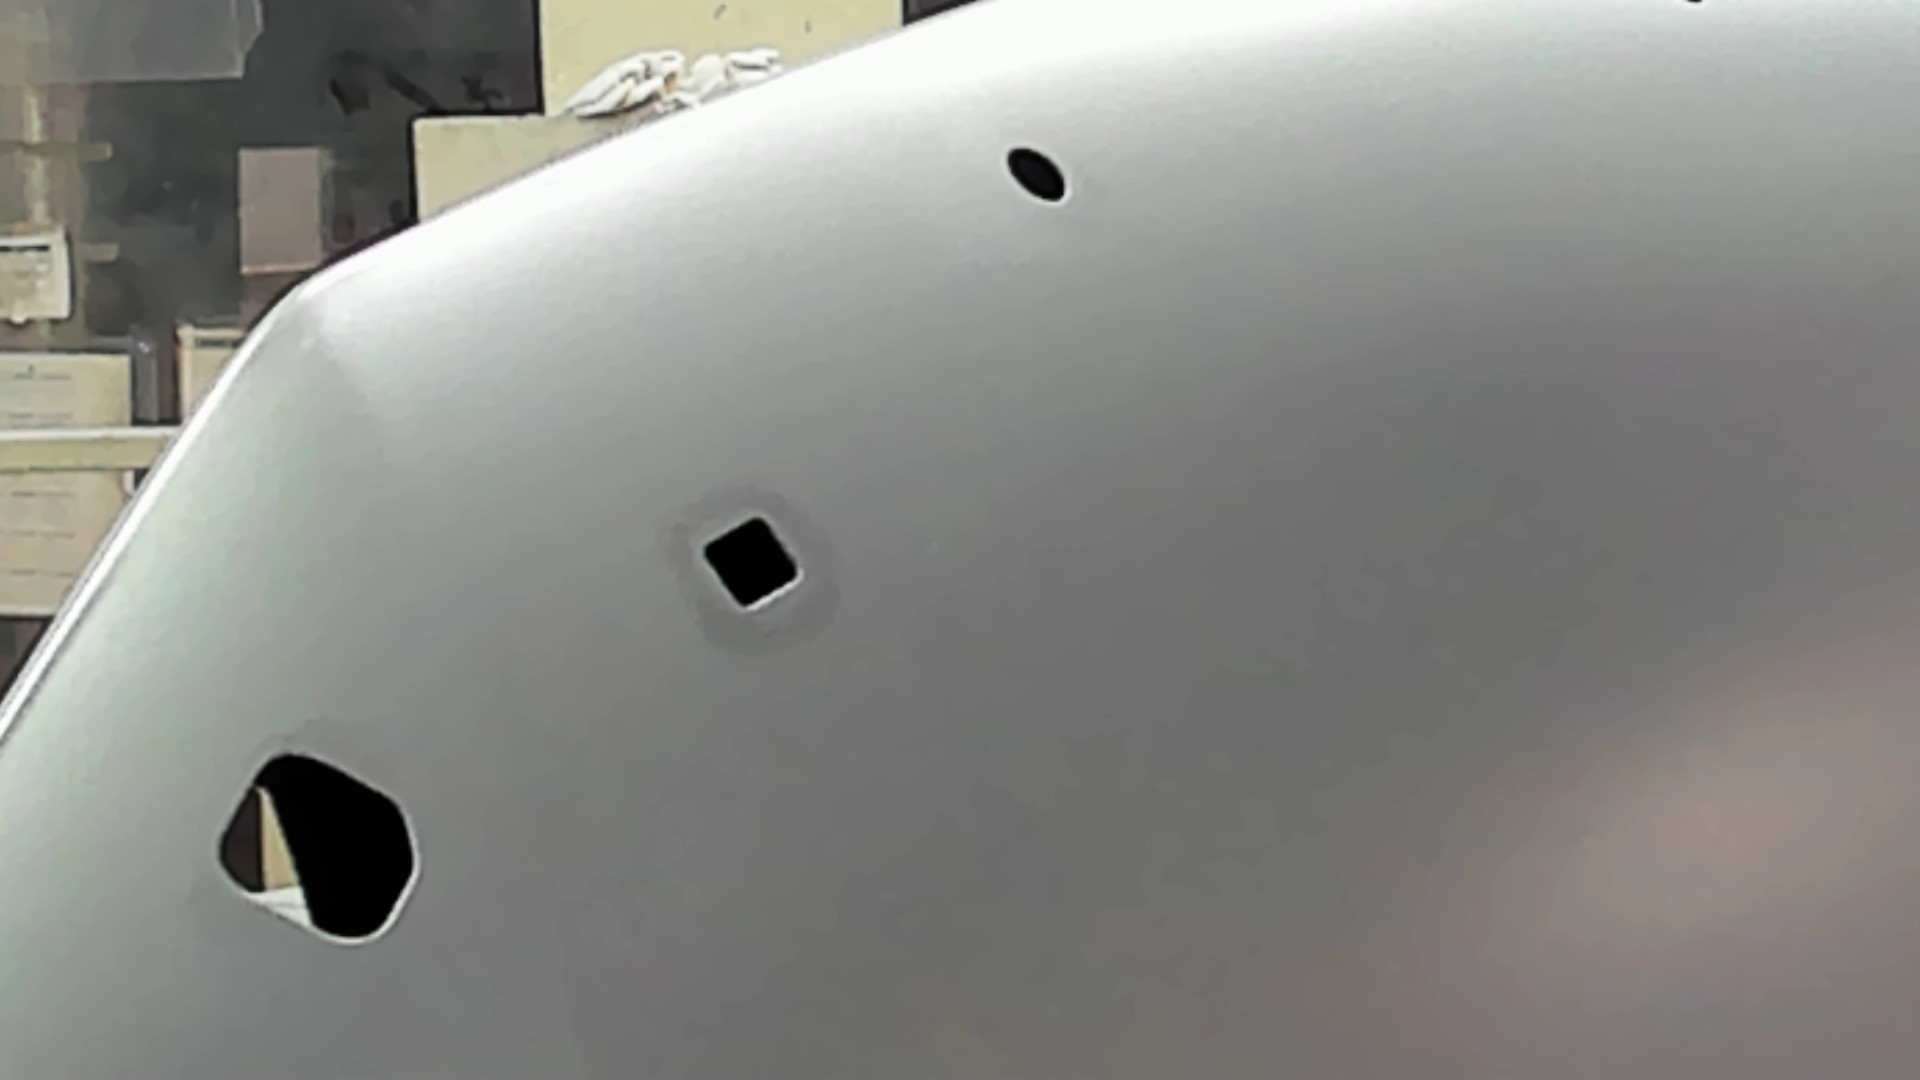capo: (810, 210, 1920, 1080)
chico: (1005, 142, 1067, 206)
grande: (210, 746, 421, 951)
mediano: (698, 514, 800, 615)
